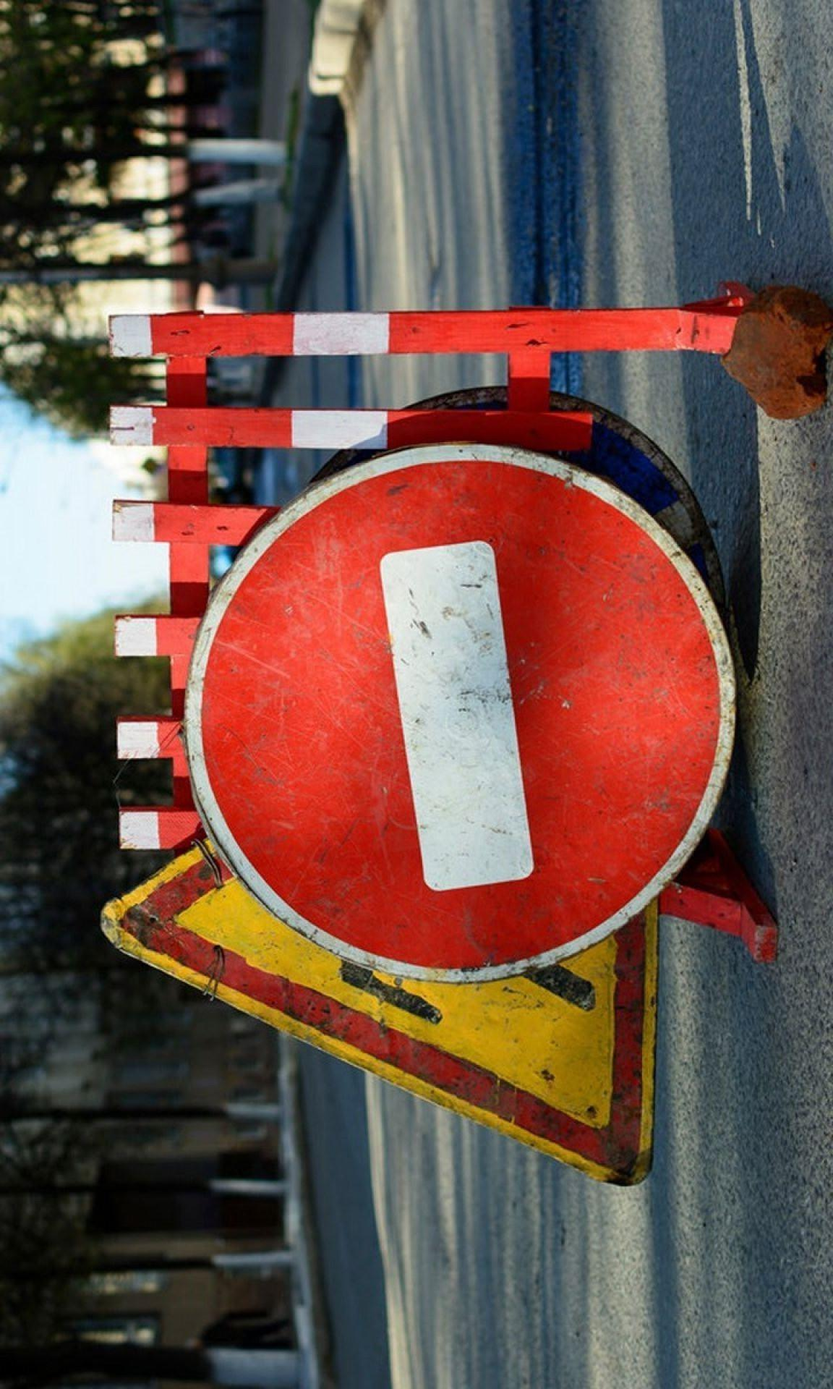obstructed_road_sign: (95, 835, 659, 1189)
road_sign: (183, 446, 741, 981)
